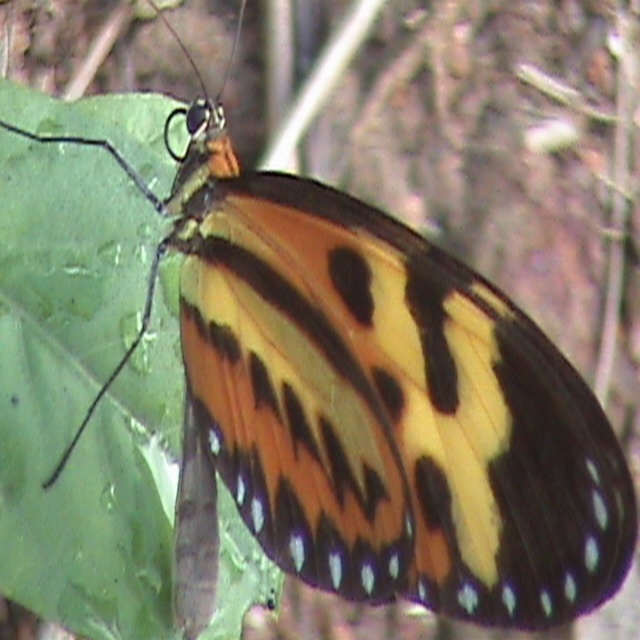Butterfly: (1, 3, 639, 628)
